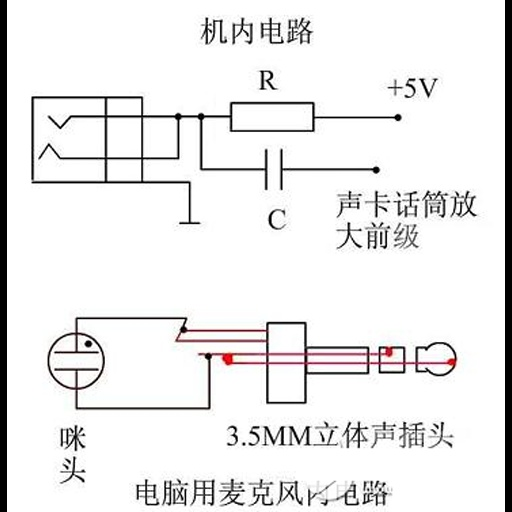capacitor: (259, 142, 293, 193)
firstresistance: (225, 97, 322, 139)
